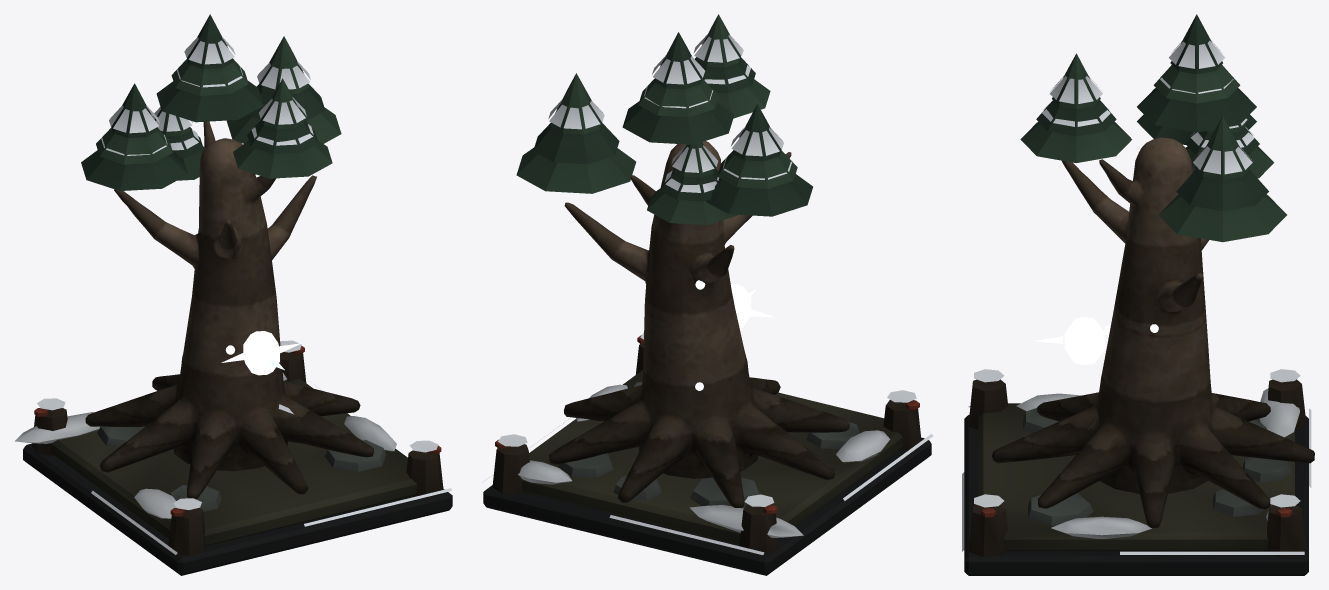
The model's file is sylvestres-9.glb.
3 views of the same model, side by side, from view 1: azimuth 30°, elevation 25°; view 2: azimuth 150°, elevation 25°; view 3: azimuth 270°, elevation 25° (orthographic). The views are drawn at different scales.
Parts seen in each view (by area): view 1: lunebois_9_architecture, lunebois_9_arbre, Coeur; view 2: lunebois_9_architecture, lunebois_9_arbre; view 3: lunebois_9_architecture, lunebois_9_arbre, Coeur.
Part boxes in pixels (x1,y1,x2,y2): lunebois_9_architecture: (15,14,452,575); lunebois_9_arbre: (85,121,373,499); Coeur: (243,331,279,375); lunebois_9_architecture: (483,14,933,575); lunebois_9_arbre: (549,141,849,507); lunebois_9_architecture: (962,14,1311,575); lunebois_9_arbre: (992,137,1314,528); Coeur: (1064,317,1105,365).
Bounding box in the file's own units: 0.8655 × 1.29 × 0.8195.
Materials: 4 (1 with a texture image).
